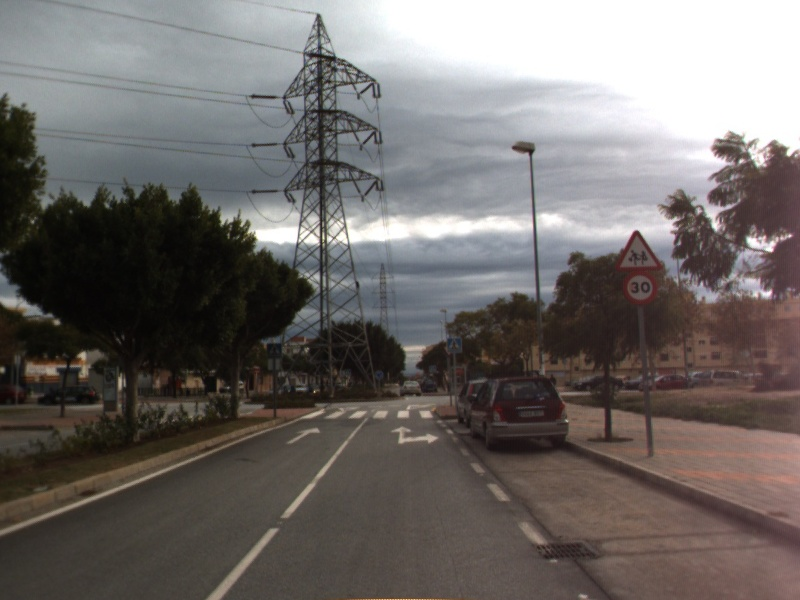STRAIGHT: (283, 425, 322, 446)
STRAIGHT_RIGHT: (389, 424, 441, 446)
